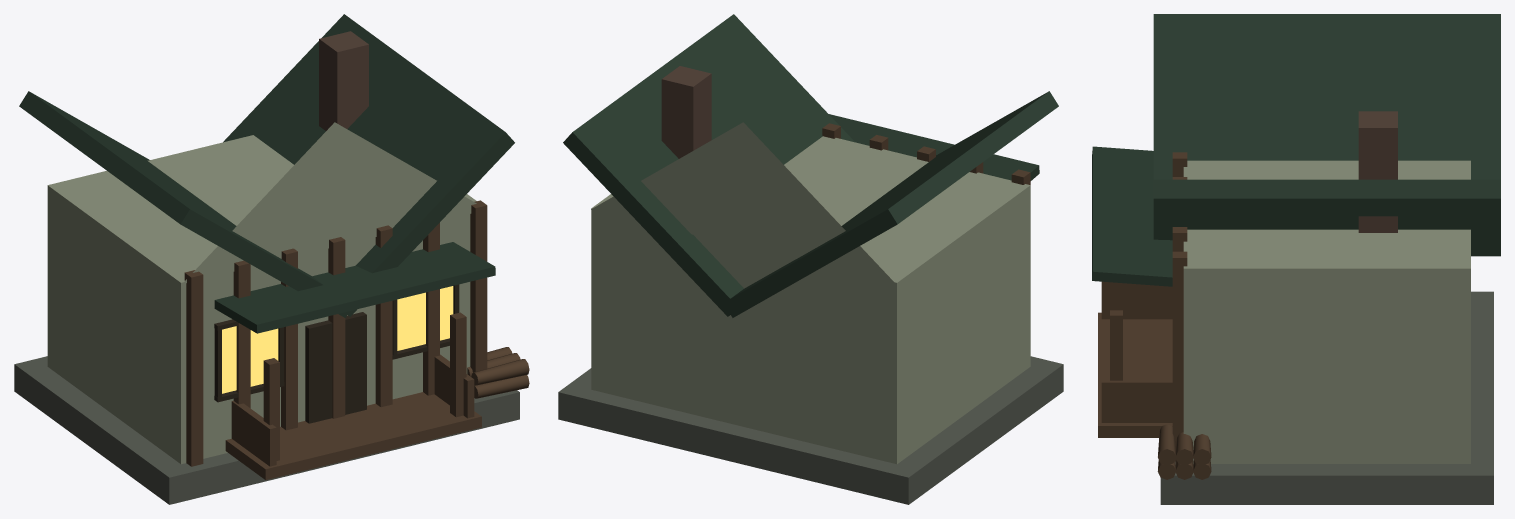
Rendered from archive-lodge.glb.
3 views of the same model, side by side, from view 1: azimuth 30°, elevation 25°; view 2: azimuth 150°, elevation 25°; view 3: azimuth 270°, elevation 25° (orthographic). The views are drawn at different scales.
Visible parts, largest first — view 1: LodgeBody, VerdantArchiveLodge, RoofRight, StoneFoundation, FrontPorch, RoofLeft, FrontDoor, Chimney, FrontBeam_1, FrontBeam_7, Window_Left, FrontBeam_5 (+5 smaller); view 2: LodgeBody, RoofRight, StoneFoundation, VerdantArchiveLodge, RoofLeft, Chimney; view 3: LodgeBody, RoofLeft, RoofRight, VerdantArchiveLodge, StoneFoundation, FrontPorch, Chimney, FrontBeam_7.
Boxes of the visible parts, <box> form: LodgeBody: <box>47,135,476,464</box>; VerdantArchiveLodge: <box>182,122,529,466</box>; RoofRight: <box>223,14,514,316</box>; StoneFoundation: <box>14,356,519,504</box>; FrontPorch: <box>225,392,481,480</box>; RoofLeft: <box>19,91,348,317</box>; FrontDoor: <box>305,312,366,423</box>; Chimney: <box>319,31,368,130</box>; FrontBeam_1: <box>184,270,203,466</box>; FrontBeam_7: <box>470,200,487,385</box>; Window_Left: <box>222,326,278,393</box>; FrontBeam_5: <box>375,225,392,407</box>; LodgeBody: <box>591,136,1030,464</box>; RoofRight: <box>563,14,854,316</box>; StoneFoundation: <box>558,356,1063,504</box>; VerdantArchiveLodge: <box>591,114,1039,283</box>; RoofLeft: <box>723,91,1058,317</box>; Chimney: <box>661,66,711,158</box>; LodgeBody: <box>1183,160,1470,463</box>; RoofLeft: <box>1153,14,1500,179</box>; RoofRight: <box>1153,179,1500,256</box>; VerdantArchiveLodge: <box>1092,146,1211,479</box>; StoneFoundation: <box>1160,291,1493,504</box>; FrontPorch: <box>1098,312,1172,437</box>; Chimney: <box>1358,111,1397,232</box>; FrontBeam_7: <box>1172,251,1187,461</box>.
Bounding box in the file's own units: 9.62 × 8.53 × 8.83.
